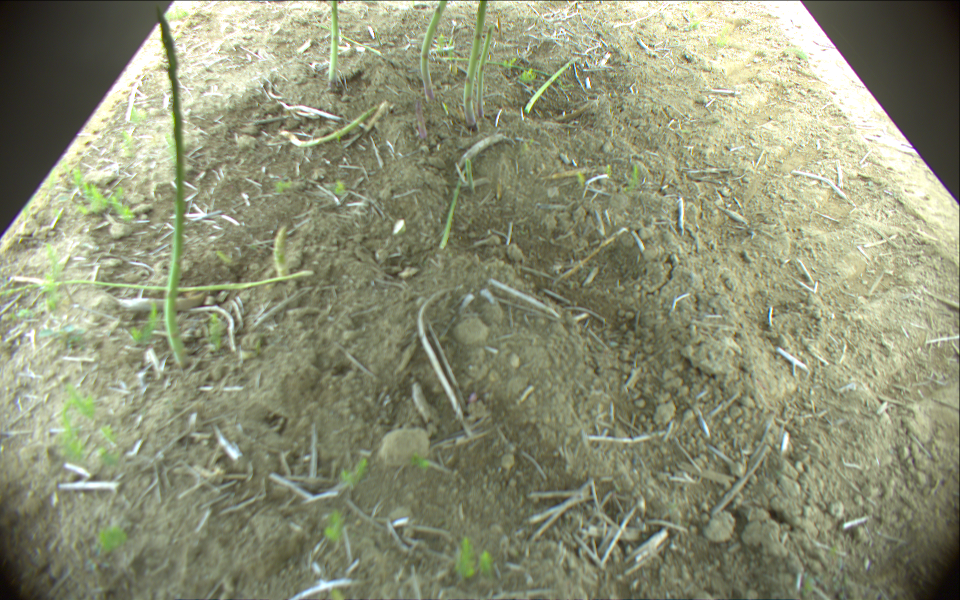aspa: (152, 2, 189, 368), (4, 271, 315, 297), (286, 106, 376, 150), (464, 1, 487, 127), (419, 1, 447, 99), (526, 59, 576, 111), (439, 58, 554, 76), (438, 168, 462, 251), (478, 29, 493, 118), (325, 1, 338, 93), (271, 224, 290, 284), (415, 97, 426, 147)
